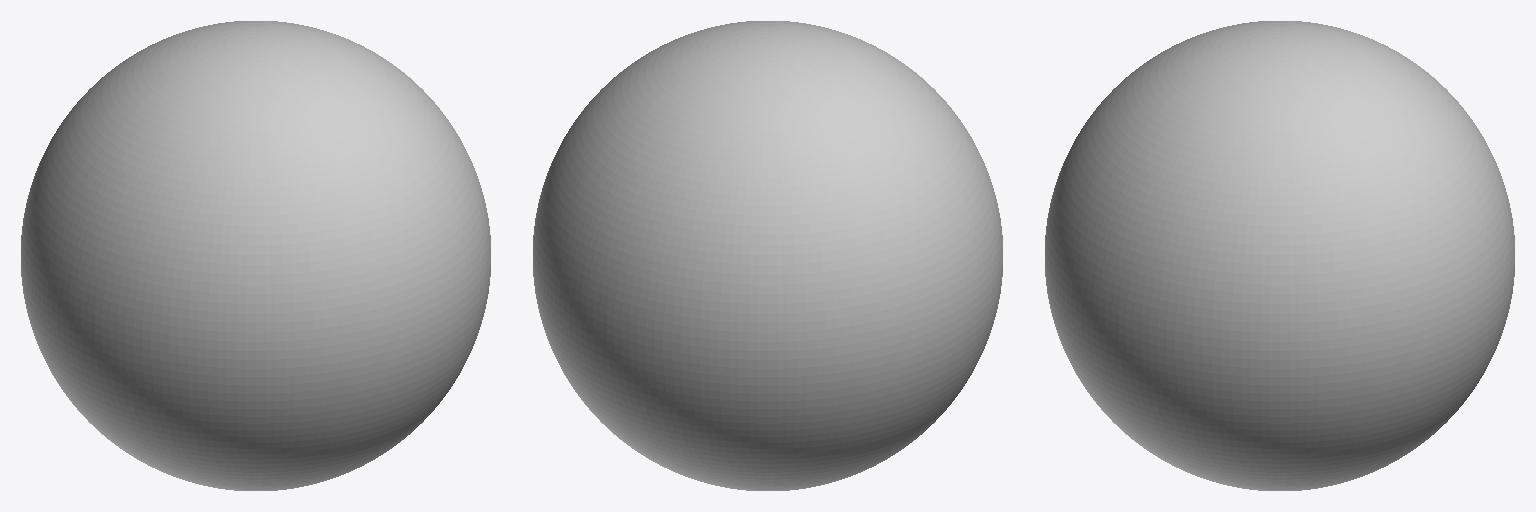
Rendered from Planeta.obj.
3 renders of one model, left to right at view 1: azimuth 30°, elevation 25°; view 2: azimuth 150°, elevation 25°; view 3: azimuth 270°, elevation 25°, orthographic.
Visible parts, largest first — view 1: Object_2; view 2: Object_2; view 3: Object_2.
Boxes of the visible parts, x1,y1,x2,y2 form: Object_2: [21, 21, 490, 490]; Object_2: [533, 21, 1002, 490]; Object_2: [1045, 21, 1514, 490].
Size of the model in its own units: 49.99 by 50 by 49.98.